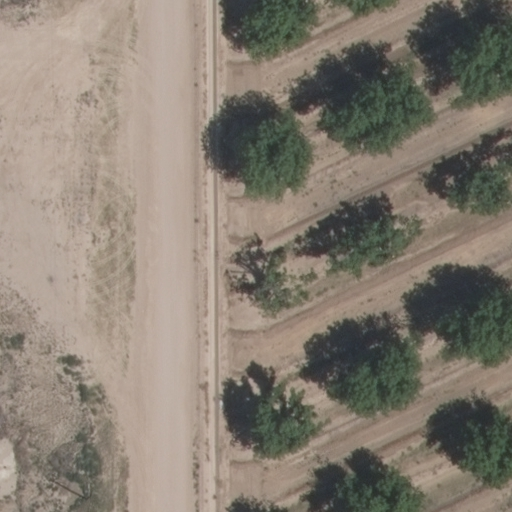DT: (76, 474, 98, 501)
